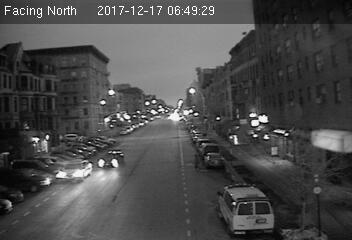car: (55, 159, 95, 182), (96, 150, 125, 170), (204, 152, 225, 166)
police: (216, 182, 273, 233)
